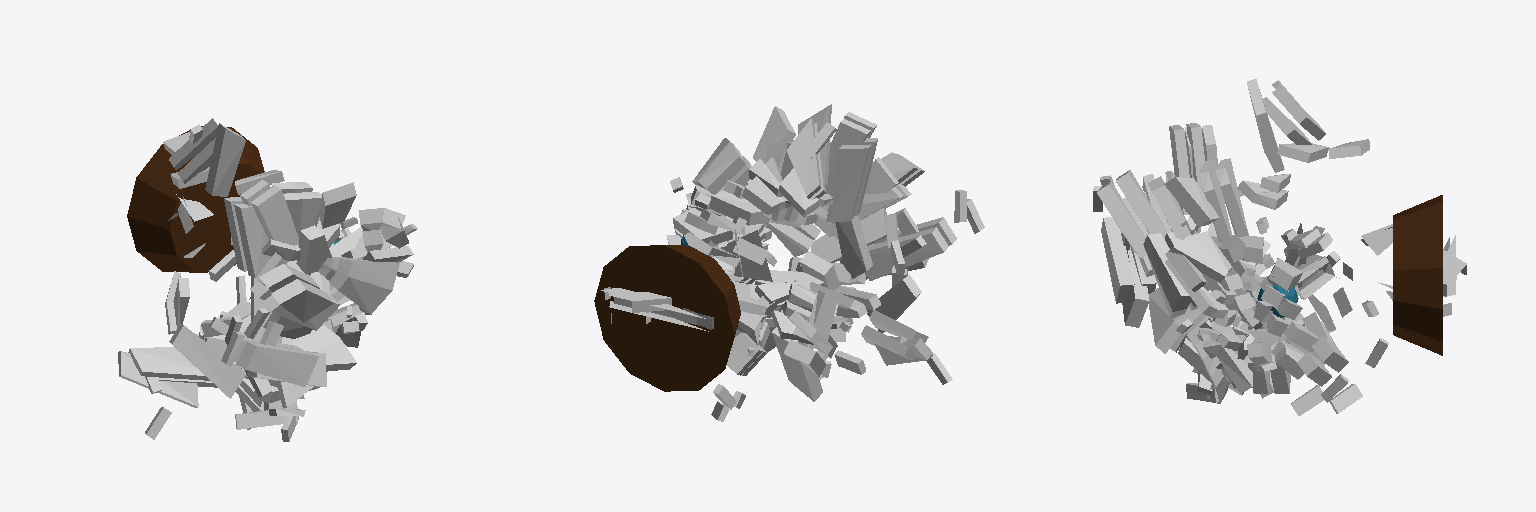
3 renders of one model, left to right at view 1: azimuth 30°, elevation 25°; view 2: azimuth 150°, elevation 25°; view 3: azimuth 270°, elevation 25°, orthographic.
Visible parts, largest first — view 1: Cone.001_Cone.001_cover, Cone_Cone_cover, Cylinder_Cylinder_Material.001, Plane_Plane_Material.003; view 2: Cone.001_Cone.001_cover, Cone_Cone_cover, Cylinder_Cylinder_Material.001, Plane_Plane_Material.003; view 3: Cone_Cone_cover, Cone.001_Cone.001_cover, Cylinder_Cylinder_Material.001, Plane_Plane_Material.003.
Part boxes in pixels (left/top/right/bottom): Cone.001_Cone.001_cover: left=118, top=118, right=417, bottom=439; Cone_Cone_cover: left=201, top=182, right=413, bottom=441; Cylinder_Cylinder_Material.001: left=127, top=126, right=264, bottom=272; Plane_Plane_Material.003: left=168, top=194, right=250, bottom=299; Cone.001_Cone.001_cover: left=670, top=104, right=984, bottom=409; Cone_Cone_cover: left=666, top=106, right=956, bottom=421; Cylinder_Cylinder_Material.001: left=594, top=245, right=740, bottom=391; Plane_Plane_Material.003: left=601, top=229, right=772, bottom=331; Cone_Cone_cover: left=1097, top=170, right=1378, bottom=415; Cone.001_Cone.001_cover: left=1093, top=79, right=1388, bottom=402; Cylinder_Cylinder_Material.001: left=1393, top=195, right=1442, bottom=355; Plane_Plane_Material.003: left=1285, top=223, right=1466, bottom=330.
Size of the model in its own units: 2.38 by 2.33 by 2.57.
4 materials, 1 textured.